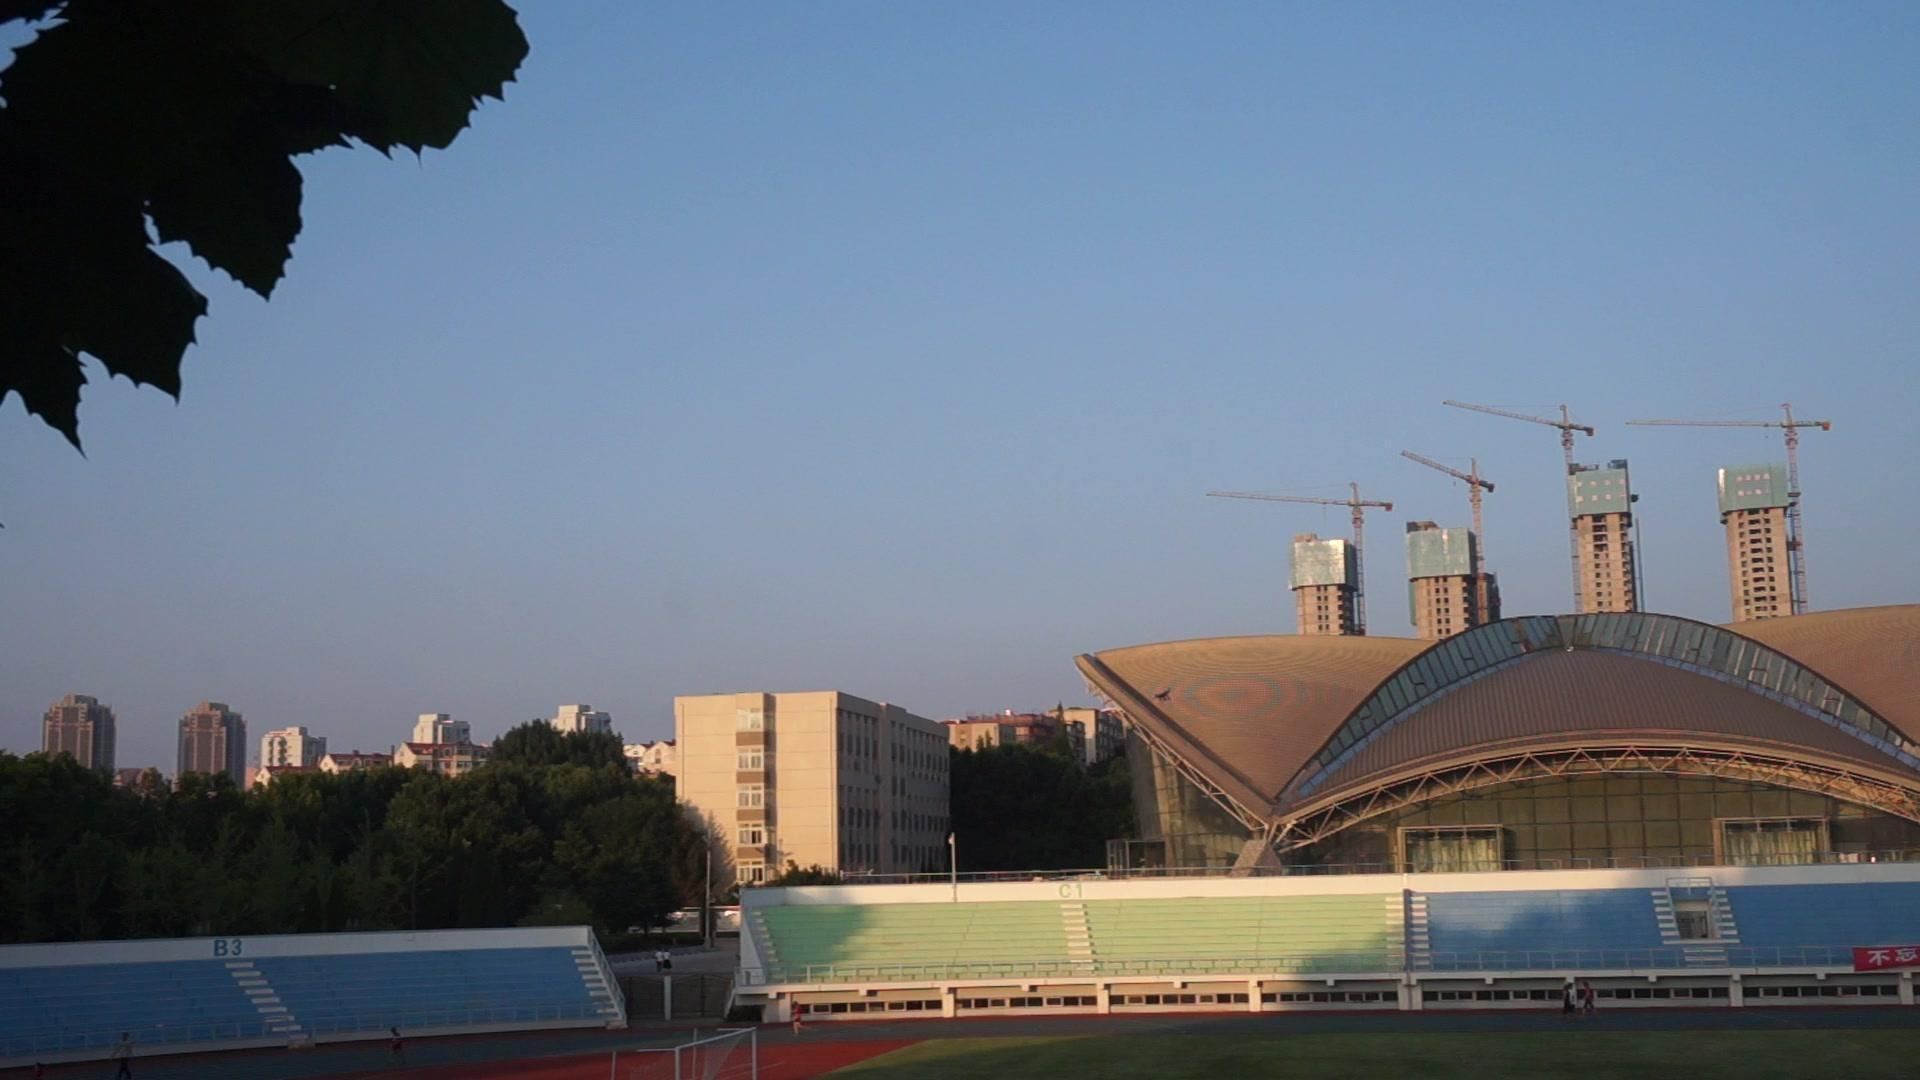UAV: (1155, 687, 1172, 704)
